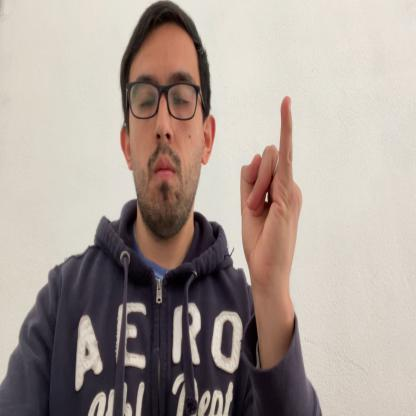I: (241, 95, 302, 287)
